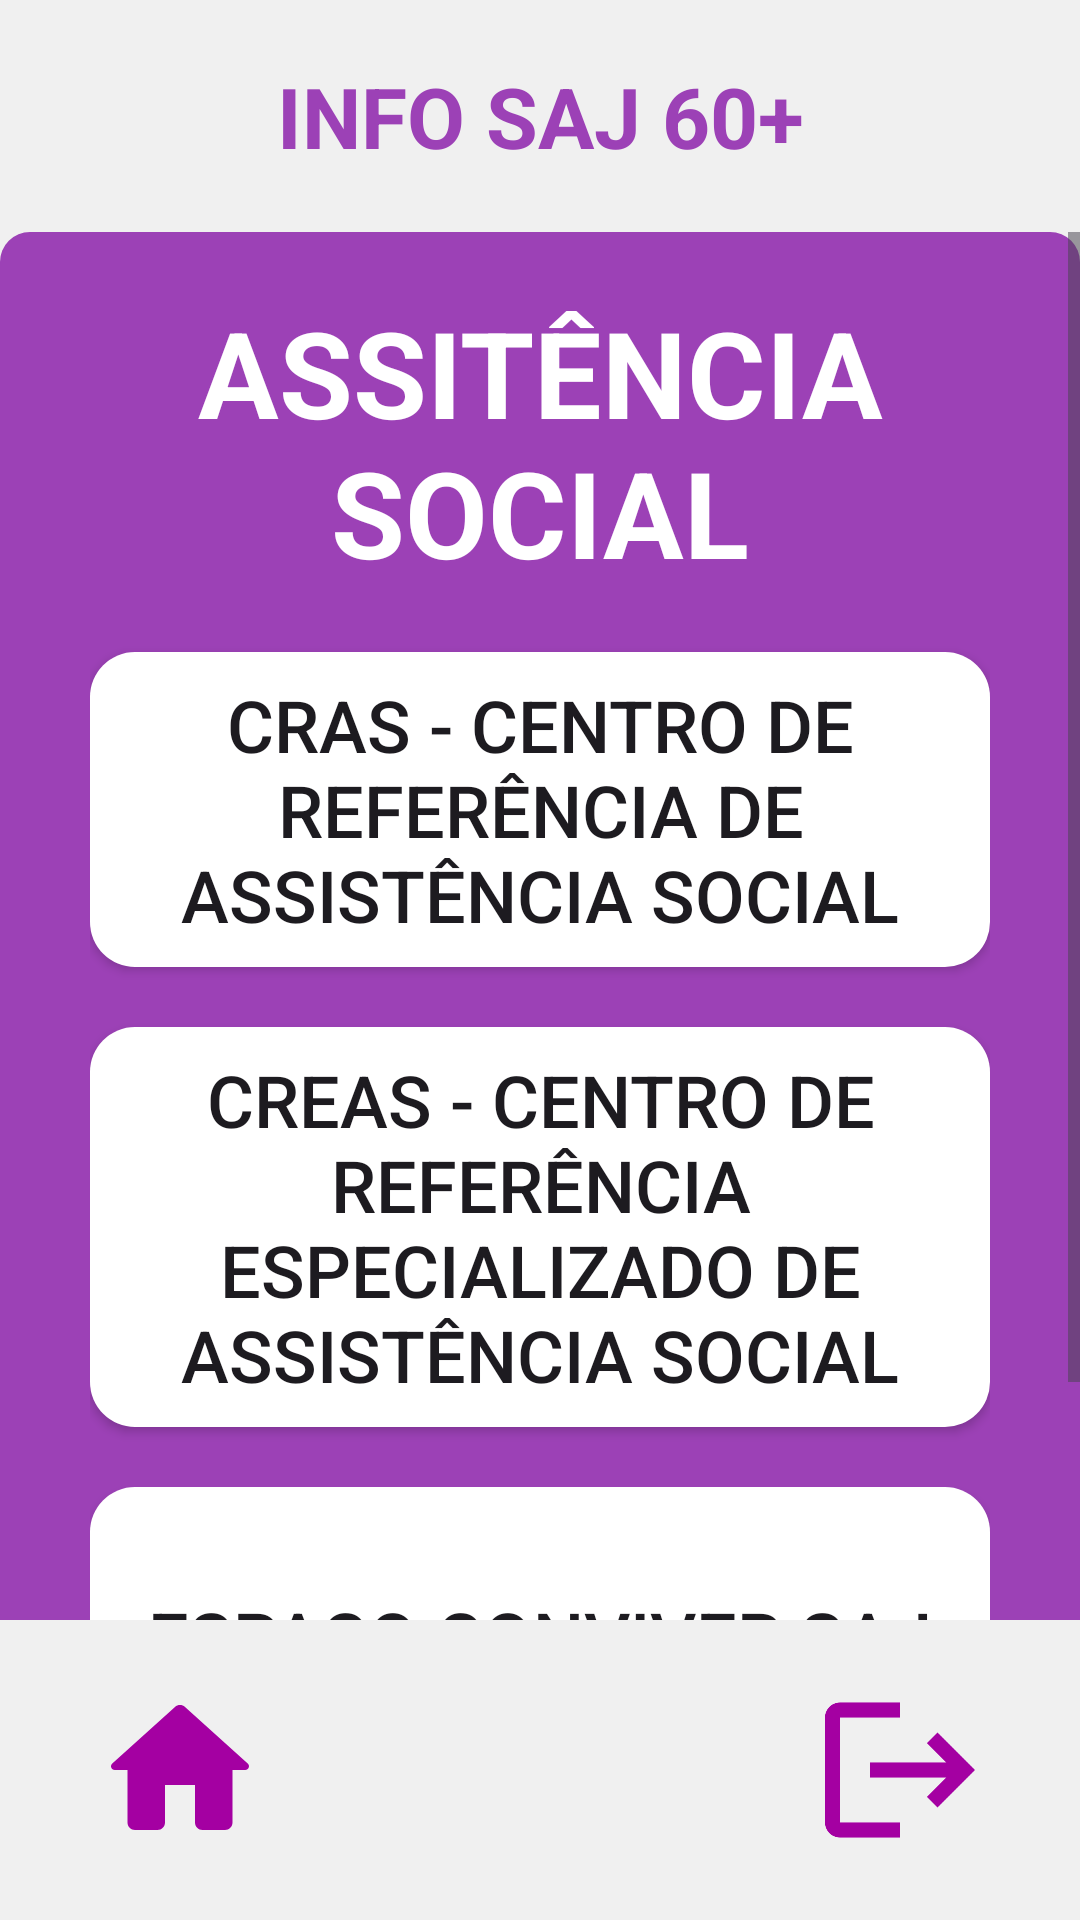

Icons on this 1080×1920 Android screen, each with its box as (x1, y1, x2, y2):
home: (111, 1705, 249, 1830)
